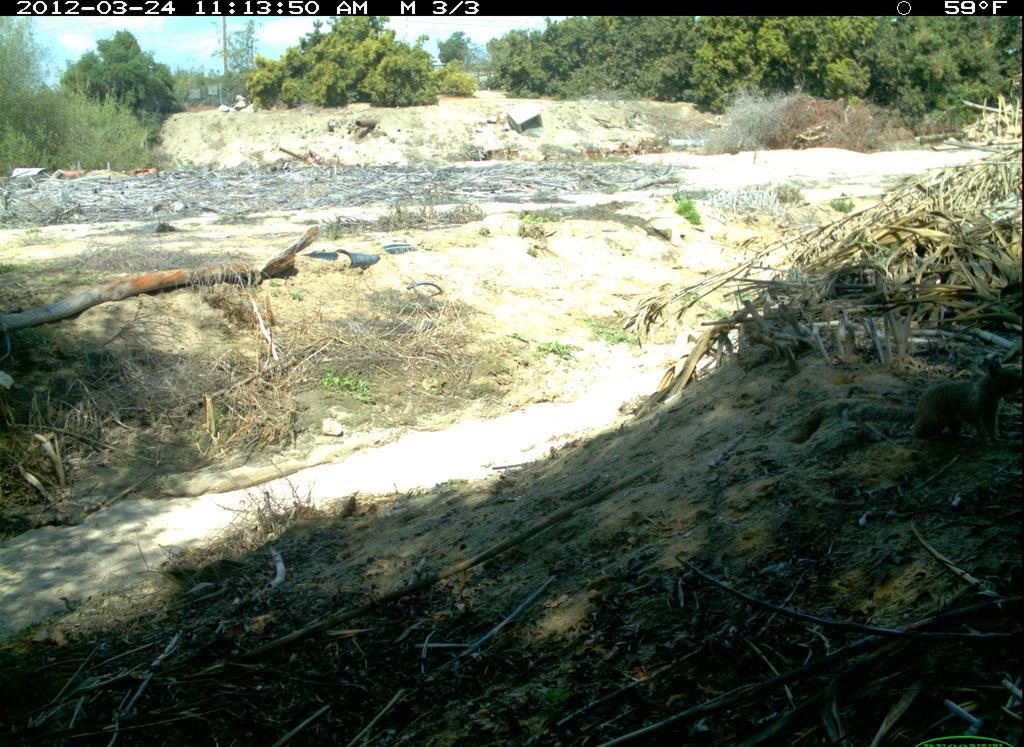squirrel: (897, 351, 1023, 455)
